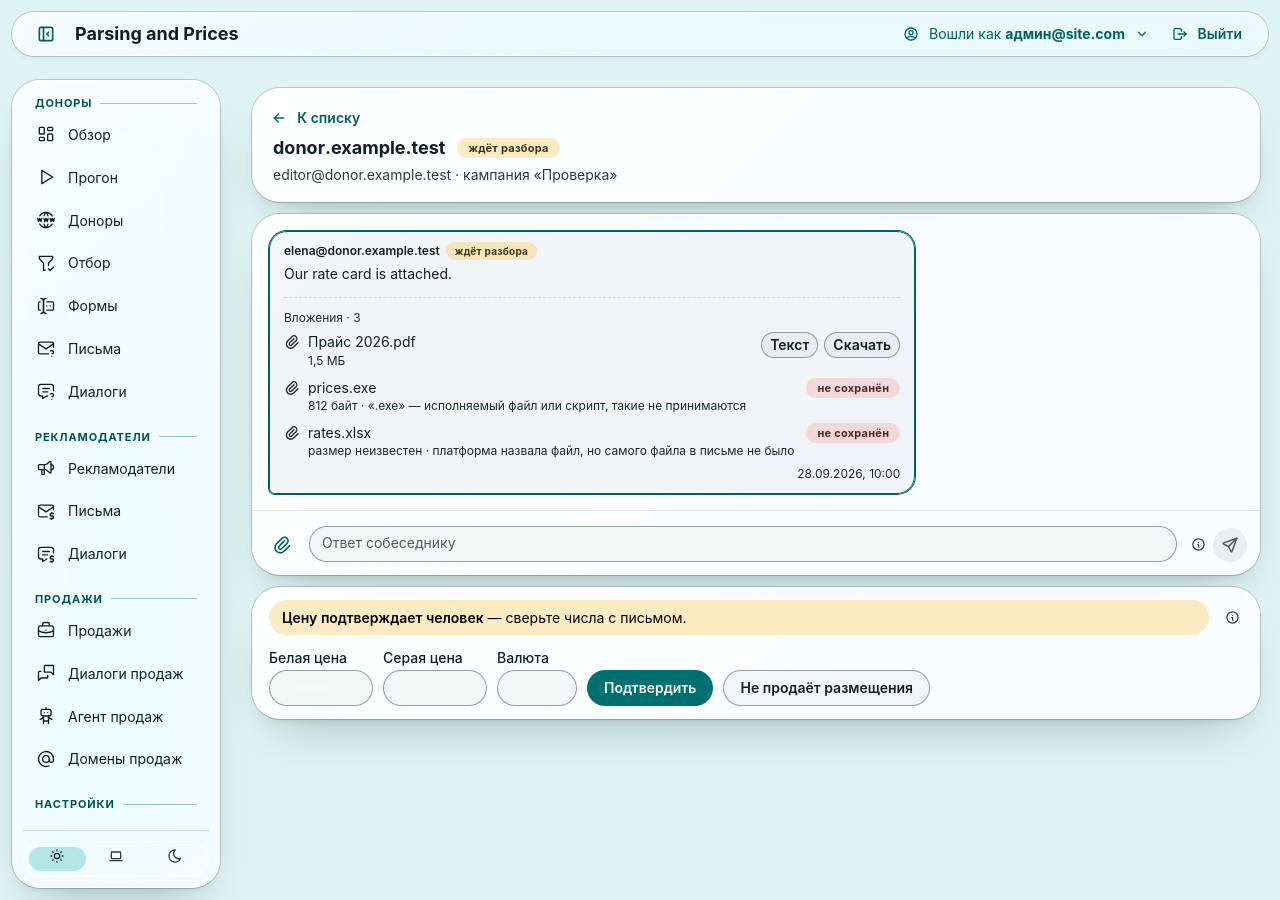
вложения ответа › отказ сервера — уведомлением с его текстом
Expected: the heading "donor.example.test" is shown, [273,135,445,161]
Click the button with aria-label "Скачать Прайс 2026.pdf" at (862, 346), box [824,332,900,358]
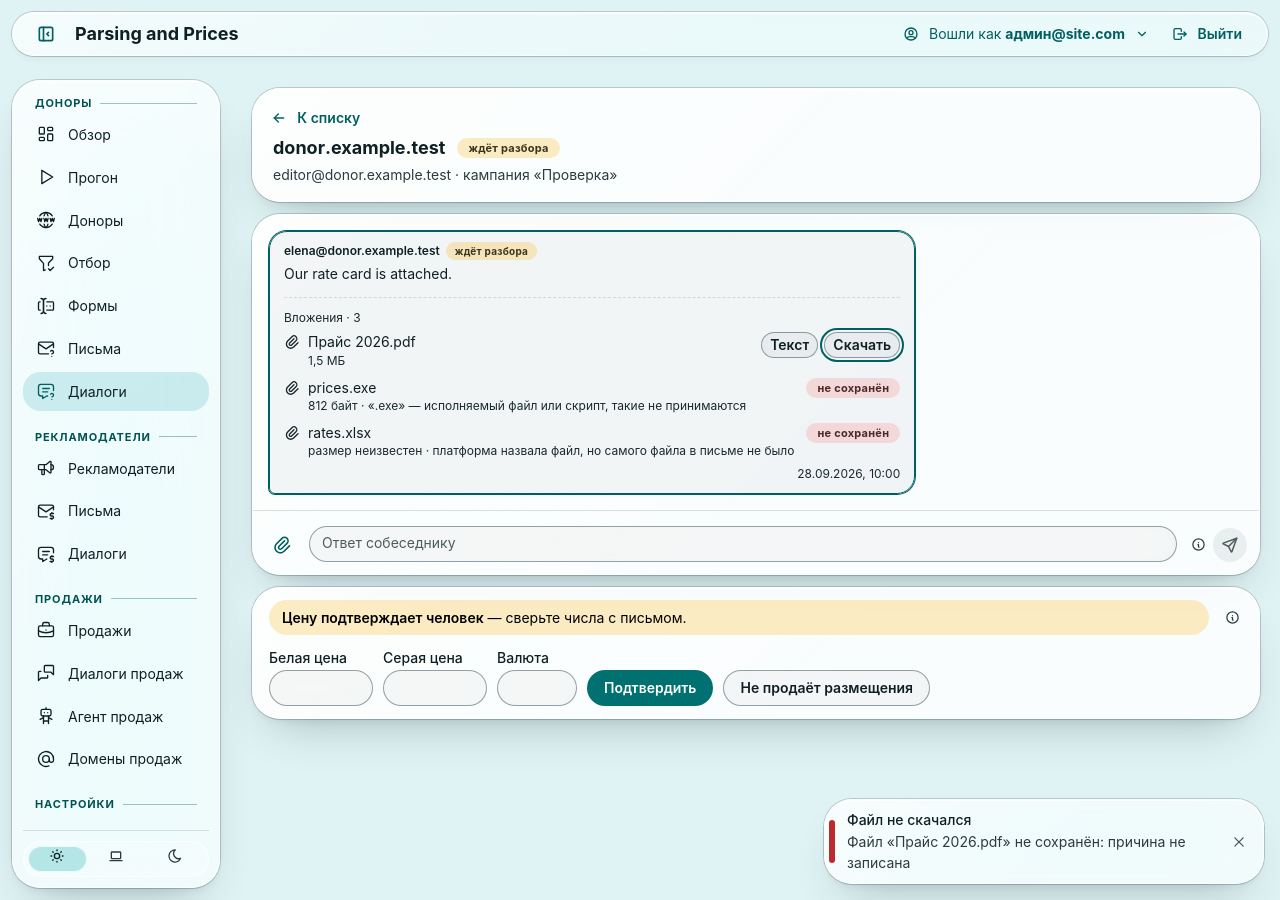
Result: the text "Файл не скачался" is shown at [847,811,971,828]
Result: the text "Файл «Прайс 2026.pdf» не сохранён: причина не записана" is shown at [847,832,1215,873]
